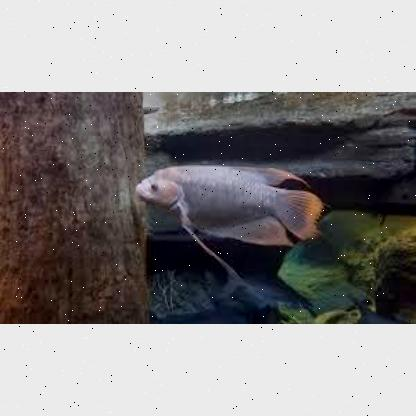gurame: (132, 156, 328, 262)
